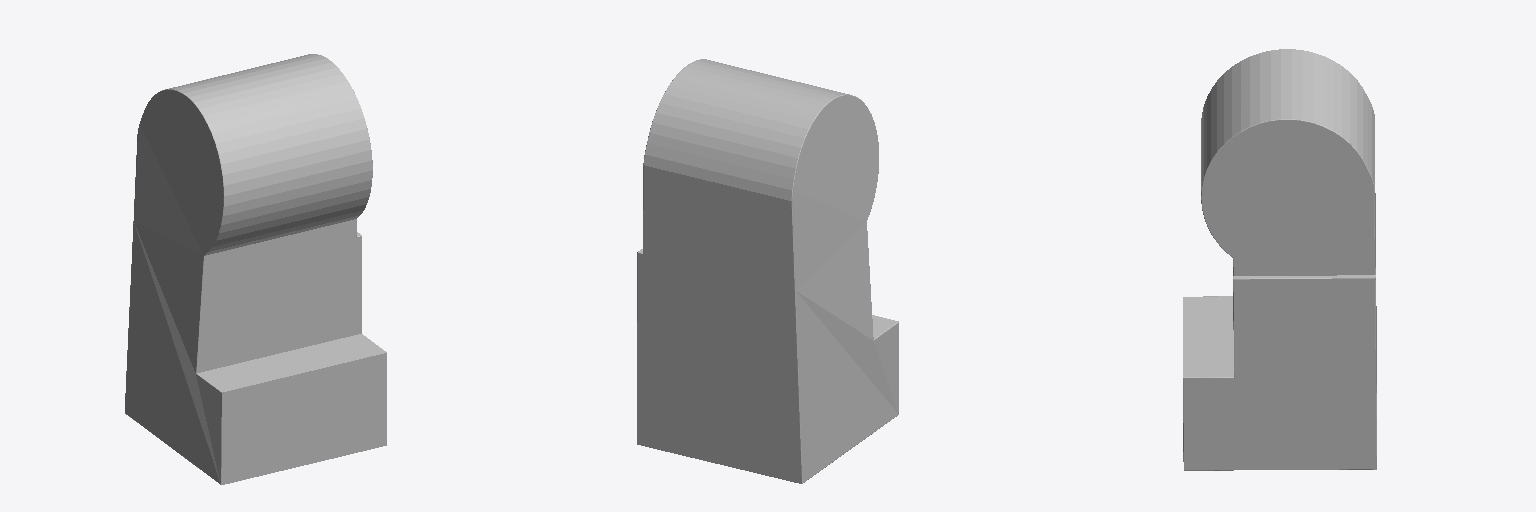
File: rightLeg.obj
The picture shows the model from 3 angles: view 1: azimuth 30°, elevation 25°; view 2: azimuth 150°, elevation 25°; view 3: azimuth 270°, elevation 25°; orthographic projection.
Parts seen in each view (by area): view 1: PieDerecho; view 2: PieDerecho; view 3: PieDerecho.
Boxes of the visible parts, x1=… form: PieDerecho: x1=125, y1=54, x2=386, y2=484; PieDerecho: x1=637, y1=59, x2=898, y2=483; PieDerecho: x1=1183, y1=49, x2=1376, y2=470.
Bounding box in the file's own units: 1.11 × 2.22 × 1.12.